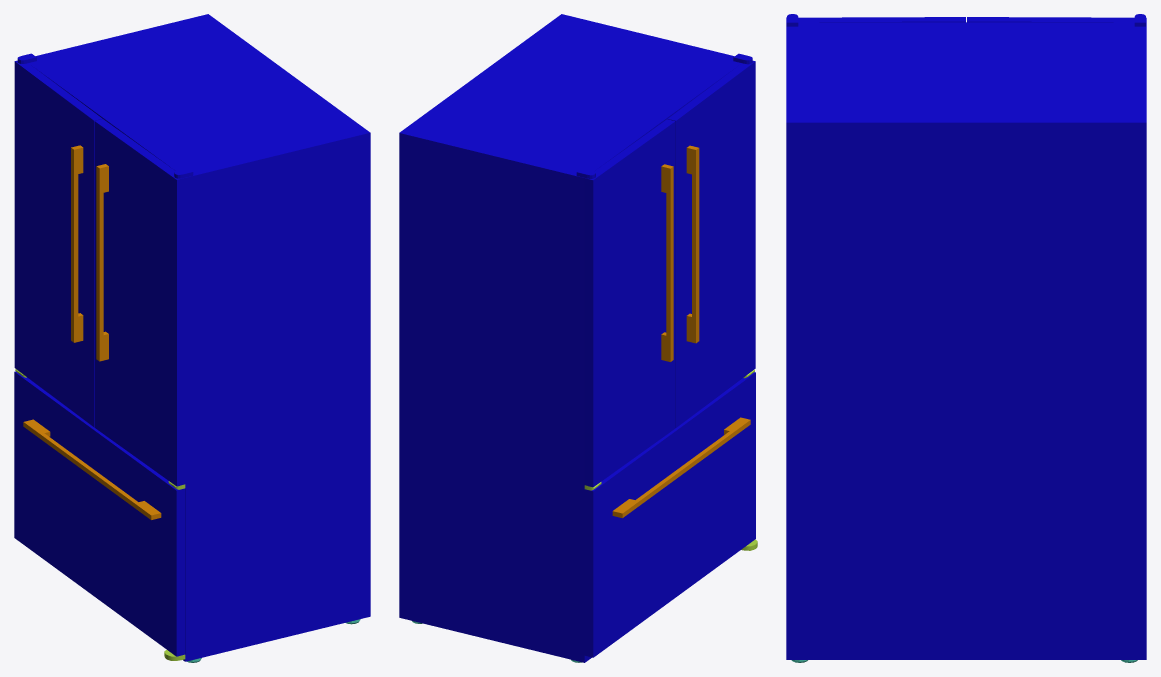
The model's file is Fridge.fbx.
3 renders of one model, left to right at view 1: azimuth 30°, elevation 25°; view 2: azimuth 150°, elevation 25°; view 3: azimuth 270°, elevation 25°, orthographic. The views are drawn at different scales.
Parts seen in each view (by area): view 1: Fridge_Main, Freezer_Door, Door_Right, Door_Left; view 2: Fridge_Main, Freezer_Door, Door_Left, Door_Right; view 3: Fridge_Main, Door_Left, Door_Right.
Part boxes in pixels (x1,y1,x2,y2): Fridge_Main: [15, 14, 370, 662]; Freezer_Door: [14, 371, 184, 656]; Door_Right: [94, 119, 185, 486]; Door_Left: [14, 60, 102, 427]; Fridge_Main: [399, 14, 757, 662]; Freezer_Door: [584, 372, 755, 657]; Door_Left: [584, 119, 675, 487]; Door_Right: [668, 60, 755, 427]; Fridge_Main: [786, 14, 1146, 662]; Door_Left: [967, 17, 1146, 22]; Door_Right: [786, 17, 965, 22].
Size of the model in its own units: 78.49 by 181 by 108.
